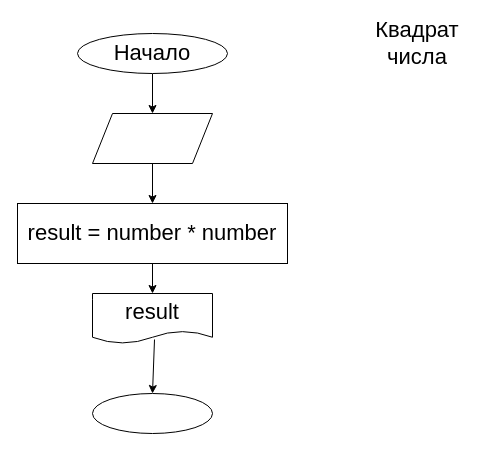
The diagram is 495 pixels wide and 451 high, and some of its shapes have lost their labels. The shapes that lost their labels are listed below. From the top down, each one's centre as x and y in pixels, then its label:
(x=152, y=138): number
(x=152, y=413): Конец
